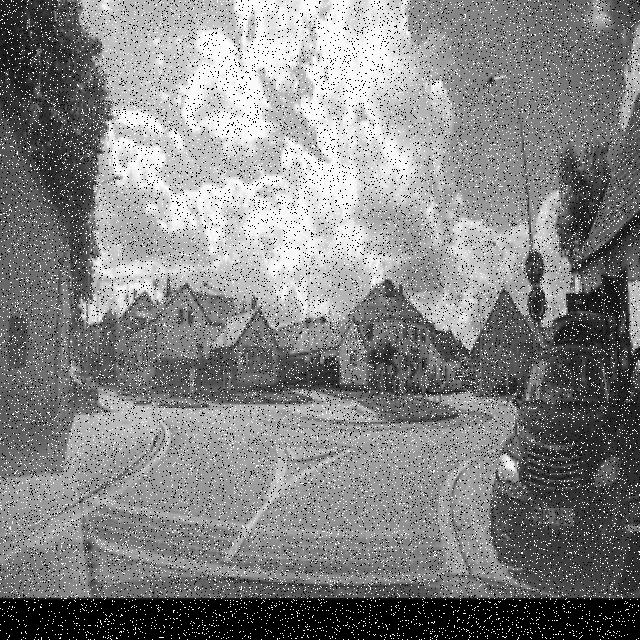clear-road: (129, 398, 513, 528)
